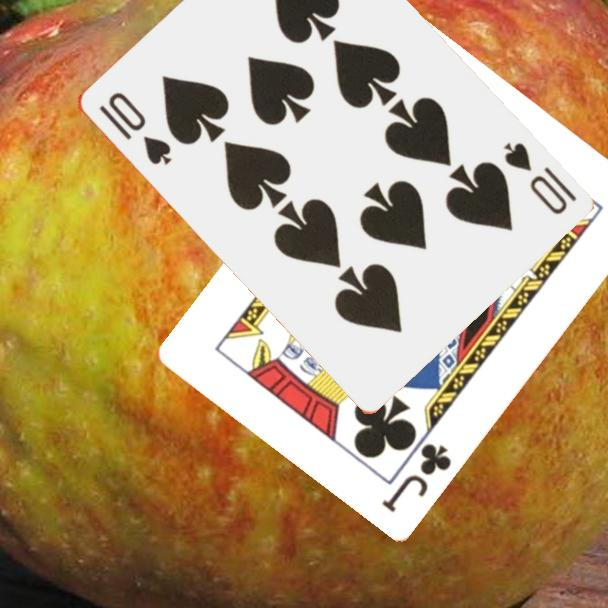c11: (378, 438, 455, 515)
s10: (94, 88, 174, 169), (499, 138, 579, 218)
